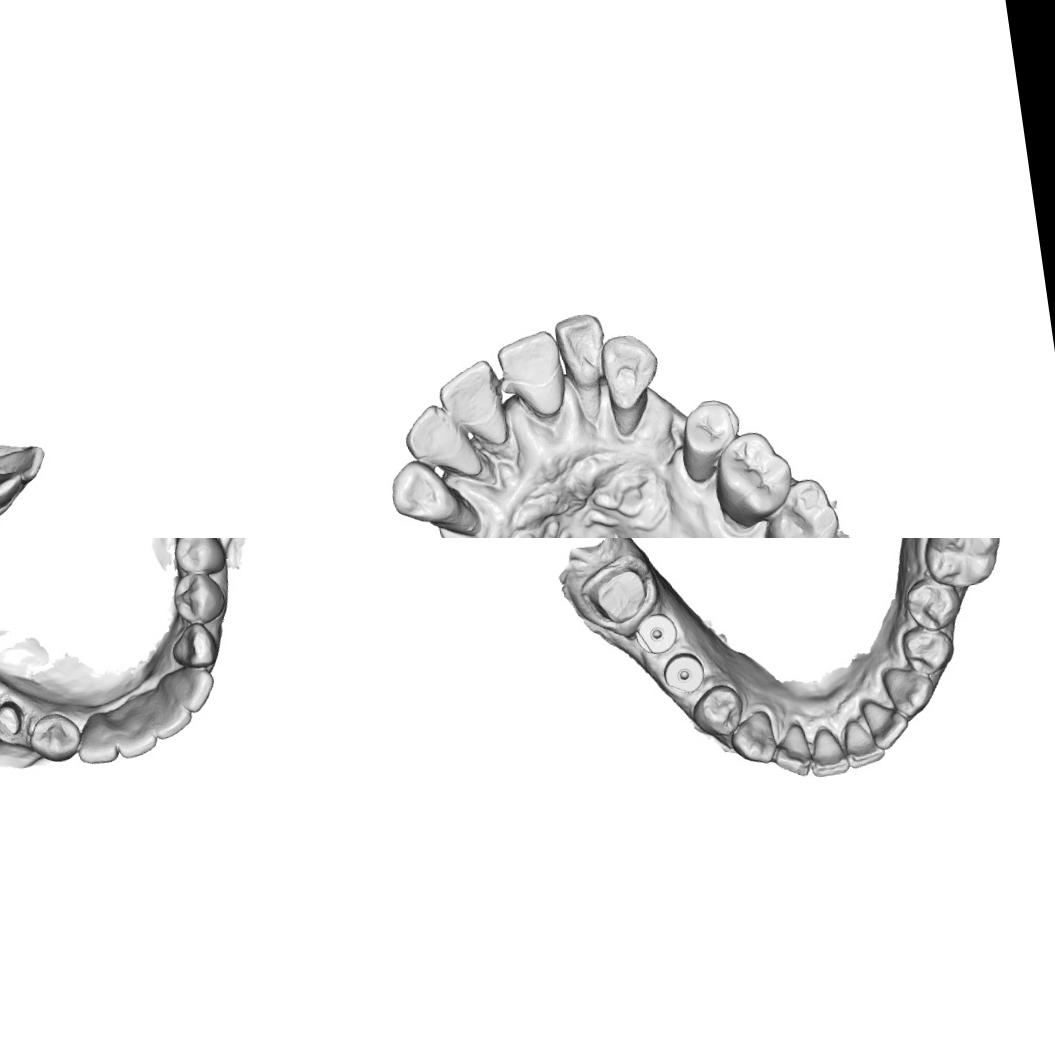canine: (386, 454, 466, 534), (595, 328, 665, 415), (24, 707, 86, 767), (879, 659, 939, 721), (726, 706, 780, 770), (166, 619, 221, 671)
crown: (576, 550, 662, 633), (0, 696, 27, 743)
implant: (632, 608, 682, 660), (658, 648, 708, 699)
incisor: (431, 357, 506, 434), (398, 399, 471, 477), (490, 328, 564, 402), (549, 306, 614, 388), (856, 691, 914, 752), (160, 662, 220, 718), (766, 718, 816, 781), (144, 682, 195, 742), (804, 720, 853, 782), (109, 702, 159, 762), (72, 710, 121, 768), (840, 714, 889, 772), (0, 443, 47, 479), (0, 465, 27, 513)
molar: (706, 426, 799, 528), (757, 473, 847, 538), (917, 538, 1007, 593)
premolar: (676, 394, 744, 467), (902, 573, 967, 635), (686, 680, 748, 742), (168, 567, 230, 627), (898, 621, 958, 678), (170, 538, 229, 578)
